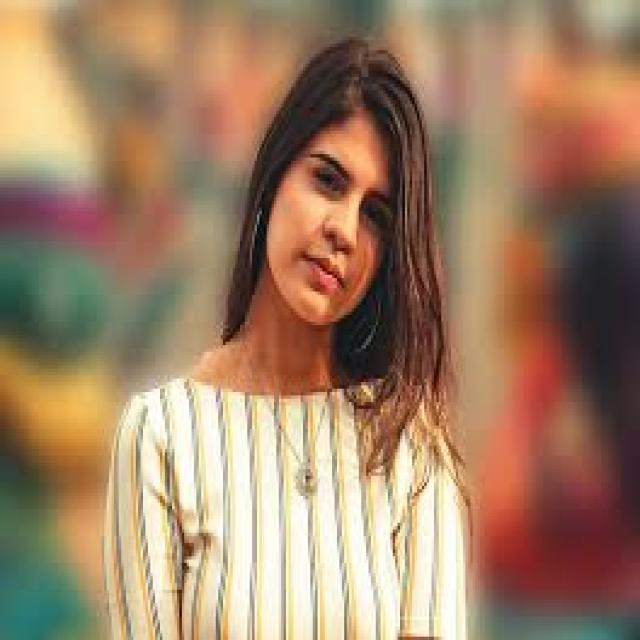Edited images: (90, 19, 496, 640)
